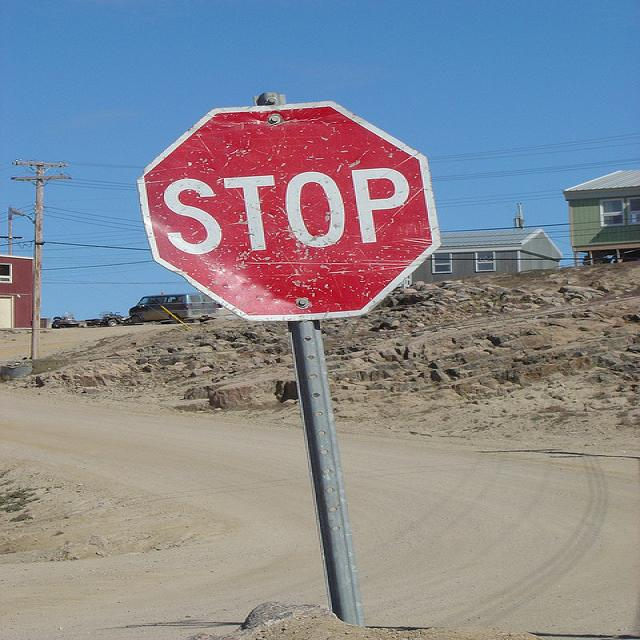Vehicle: (129, 291, 218, 324)
